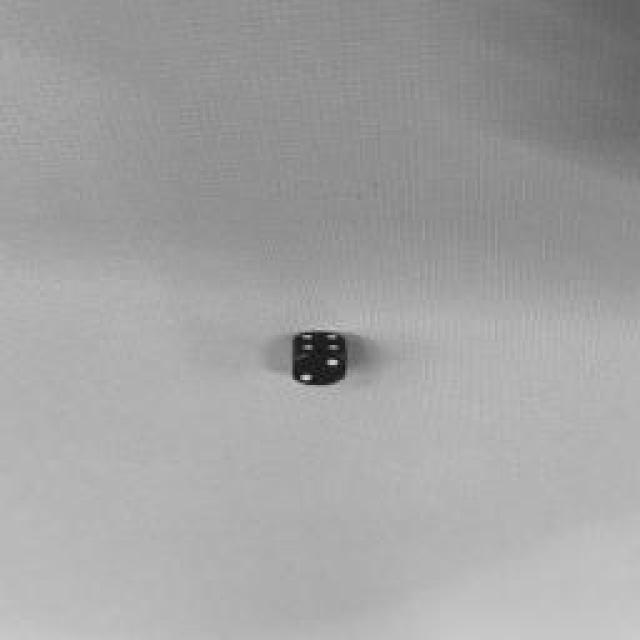dice_2: (292, 354, 346, 386)
